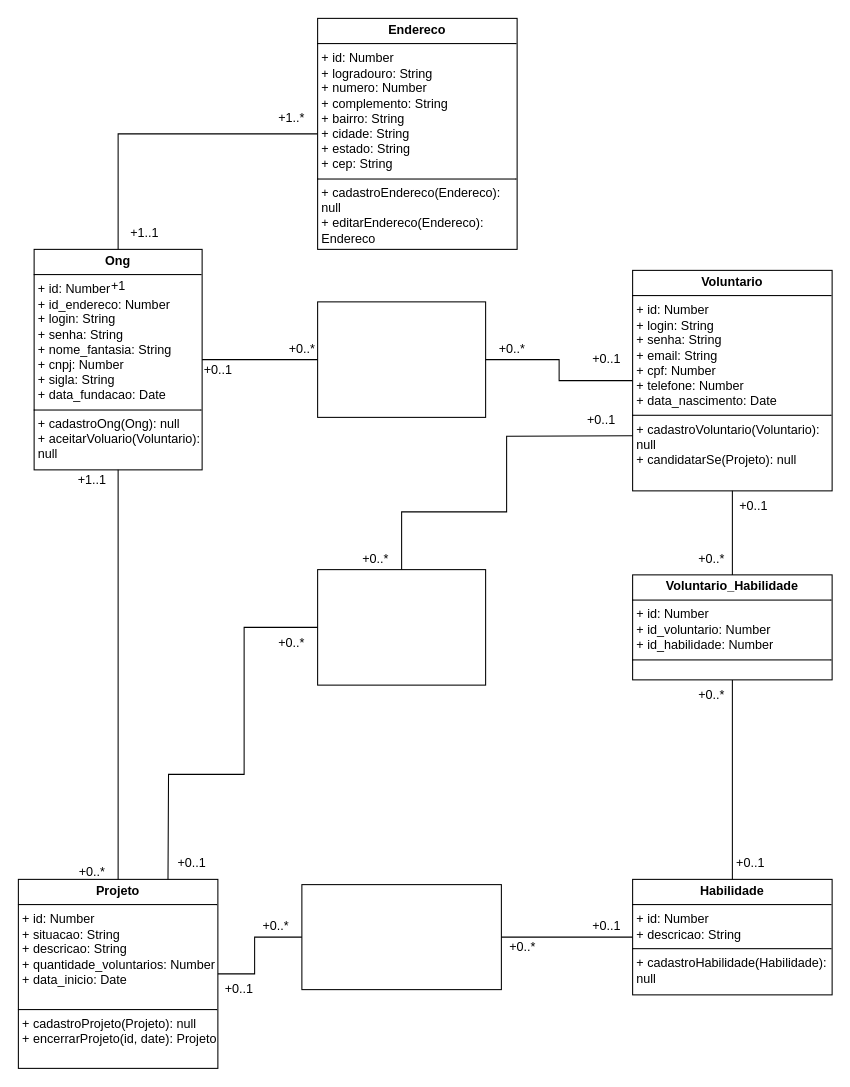
Some shapes in this 850 by 1087 pixel diagram are drawn without their labels. Each missing label, with the centre of its shape:
Ong_Voluntario + id: Number + id_ong: Number + id_voluntario: Number: (x=401, y=359)
Projeto_Habilidade + id: Number + id_habilidade: Number + id_projeto: Number: (x=401, y=937)
Projeto_Voluntario + id: Number + id_projeto: Number + id_voluntario: Number: (x=401, y=627)
